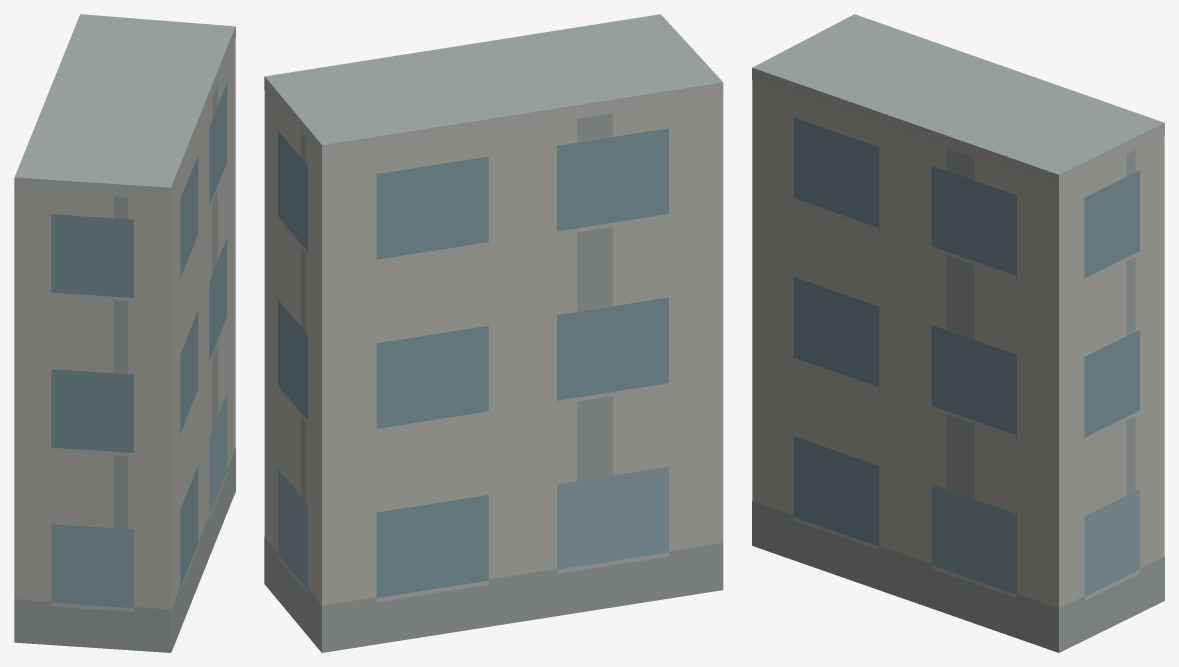
Rendered from survey-upis-32958348.glb.
The picture shows the model from 3 angles, left to right: view 1: azimuth 30°, elevation 25°; view 2: azimuth 150°, elevation 25°; view 3: azimuth 270°, elevation 25°; orthographic projection. The views are drawn at different scales.
Parts seen in each view (by area): view 1: survey-upis-32958348.tmp; view 2: survey-upis-32958348.tmp; view 3: survey-upis-32958348.tmp.
Boxes of the visible parts, bbox=[...] form: survey-upis-32958348.tmp: bbox=[14, 14, 235, 652]; survey-upis-32958348.tmp: bbox=[264, 14, 723, 652]; survey-upis-32958348.tmp: bbox=[752, 14, 1164, 652].
Bounding box in the file's own units: 6.61 × 9.15 × 7.16.
